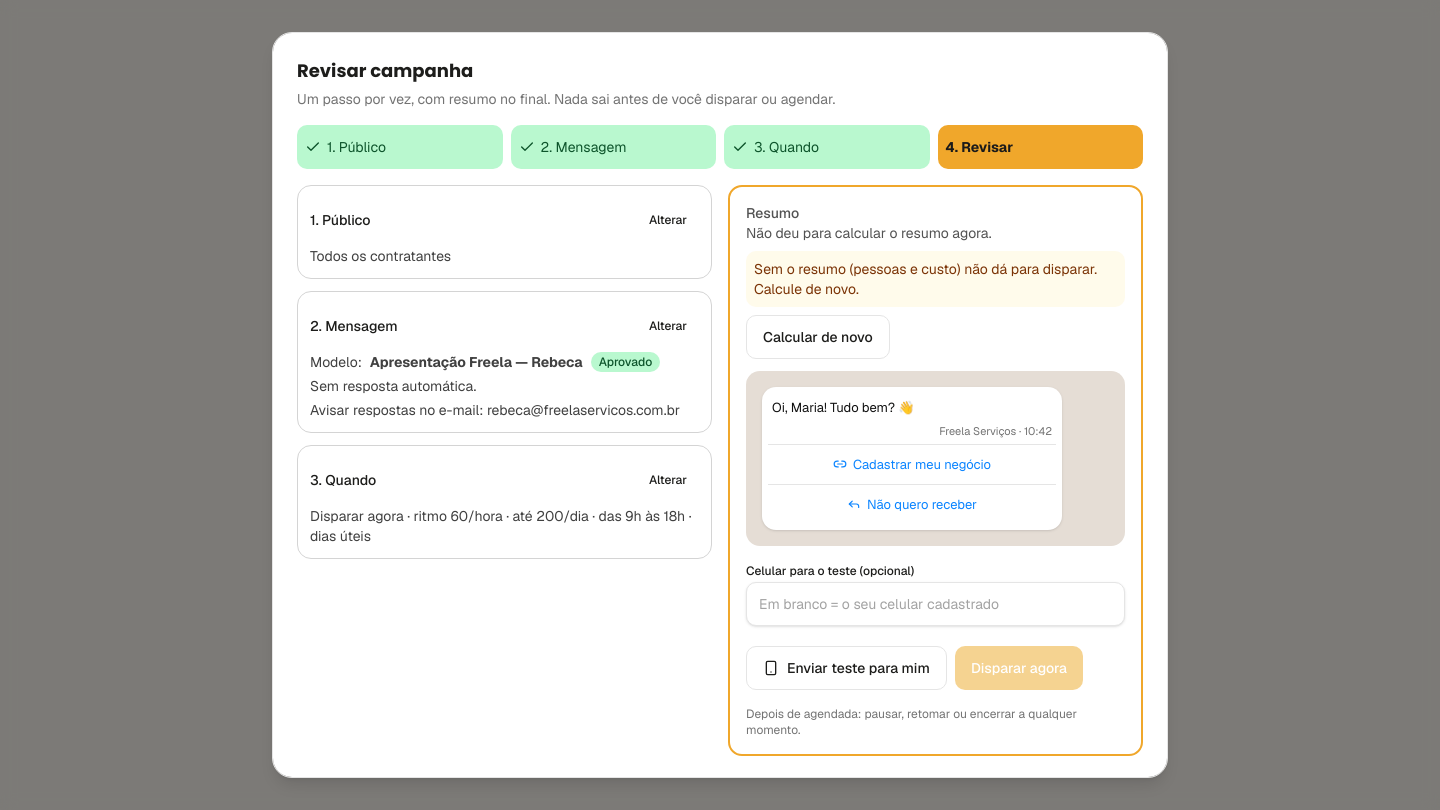
Test: CampaignWizard › resumo falhou: 'Disparar' fica travado com aviso até calcular de novo
Expected: the text "Sem o resumo (pessoas e custo) não dá para disparar. Calcule de novo." is shown, [746,251,1125,307]
Expected: the button "Disparar agora" is disabled, [955,646,1083,690]
Click the button "Calcular de novo": (818, 337) [746,315,890,359]
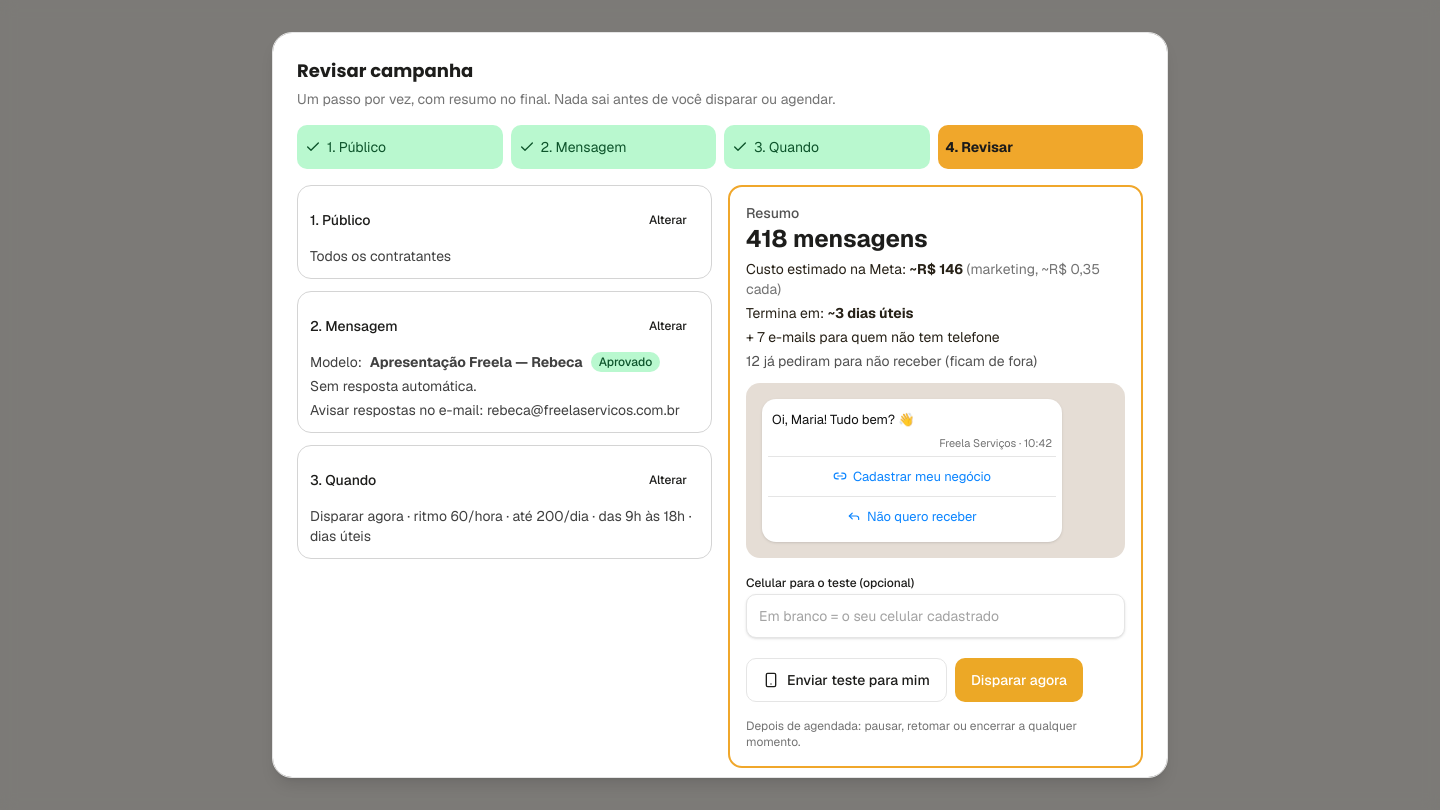
Result: the element with test id "review-summary" shows "418 mensagens" at [728,185,1143,768]
Result: the button "Disparar agora" is enabled at [955,658,1083,702]
